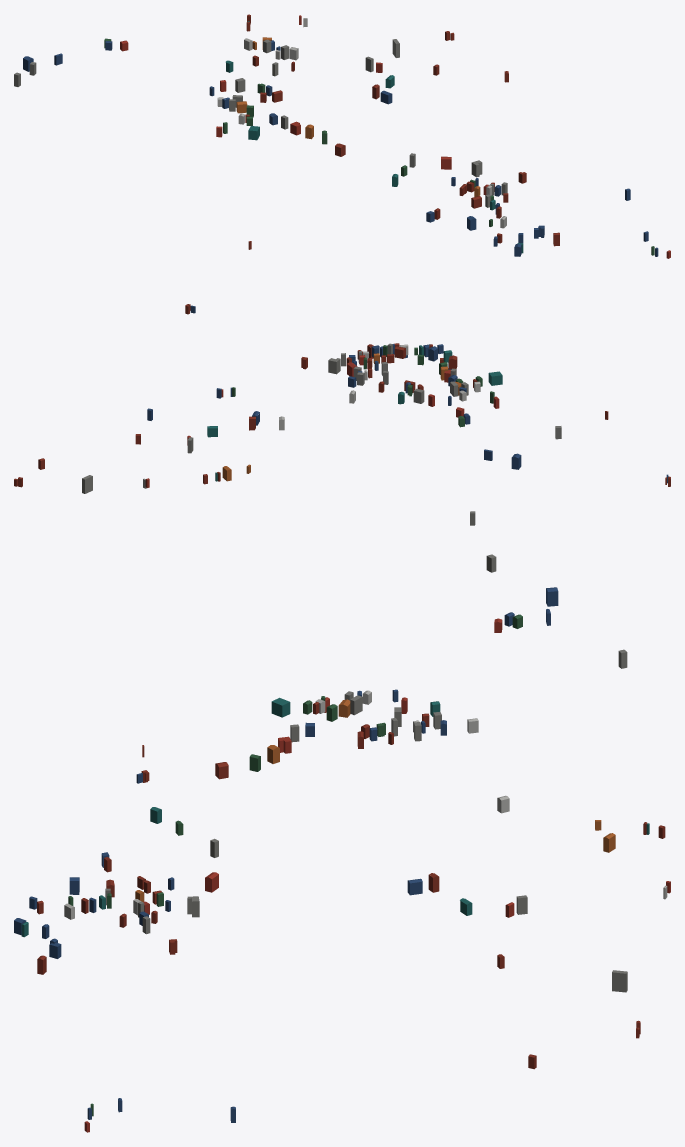
File: near-15-27367-14877.17ee3cc5.glb
3 views of the same model, one above another, from view 1: azimuth 30°, elevation 25°; view 2: azimuth 150°, elevation 25°; view 3: azimuth 270°, elevation 25° (orthographic). The views are drawn at different scales.
Size of the model in its own units: 1118 by 426 by 960.
